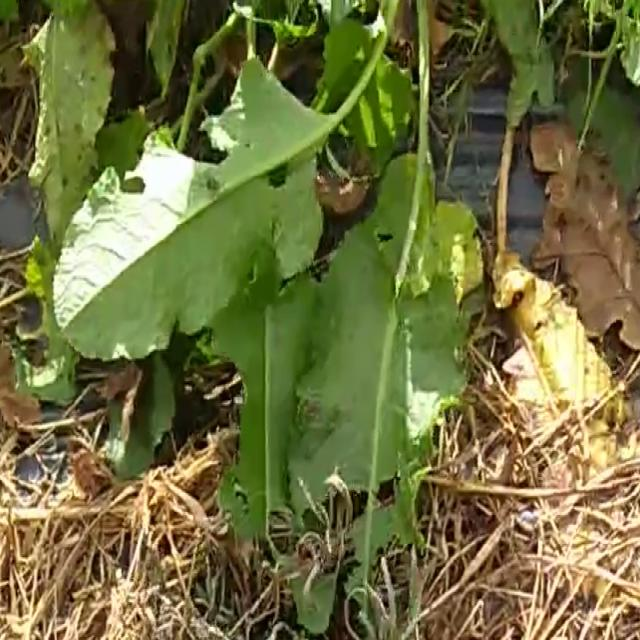organic waste: (88, 0, 516, 591)
